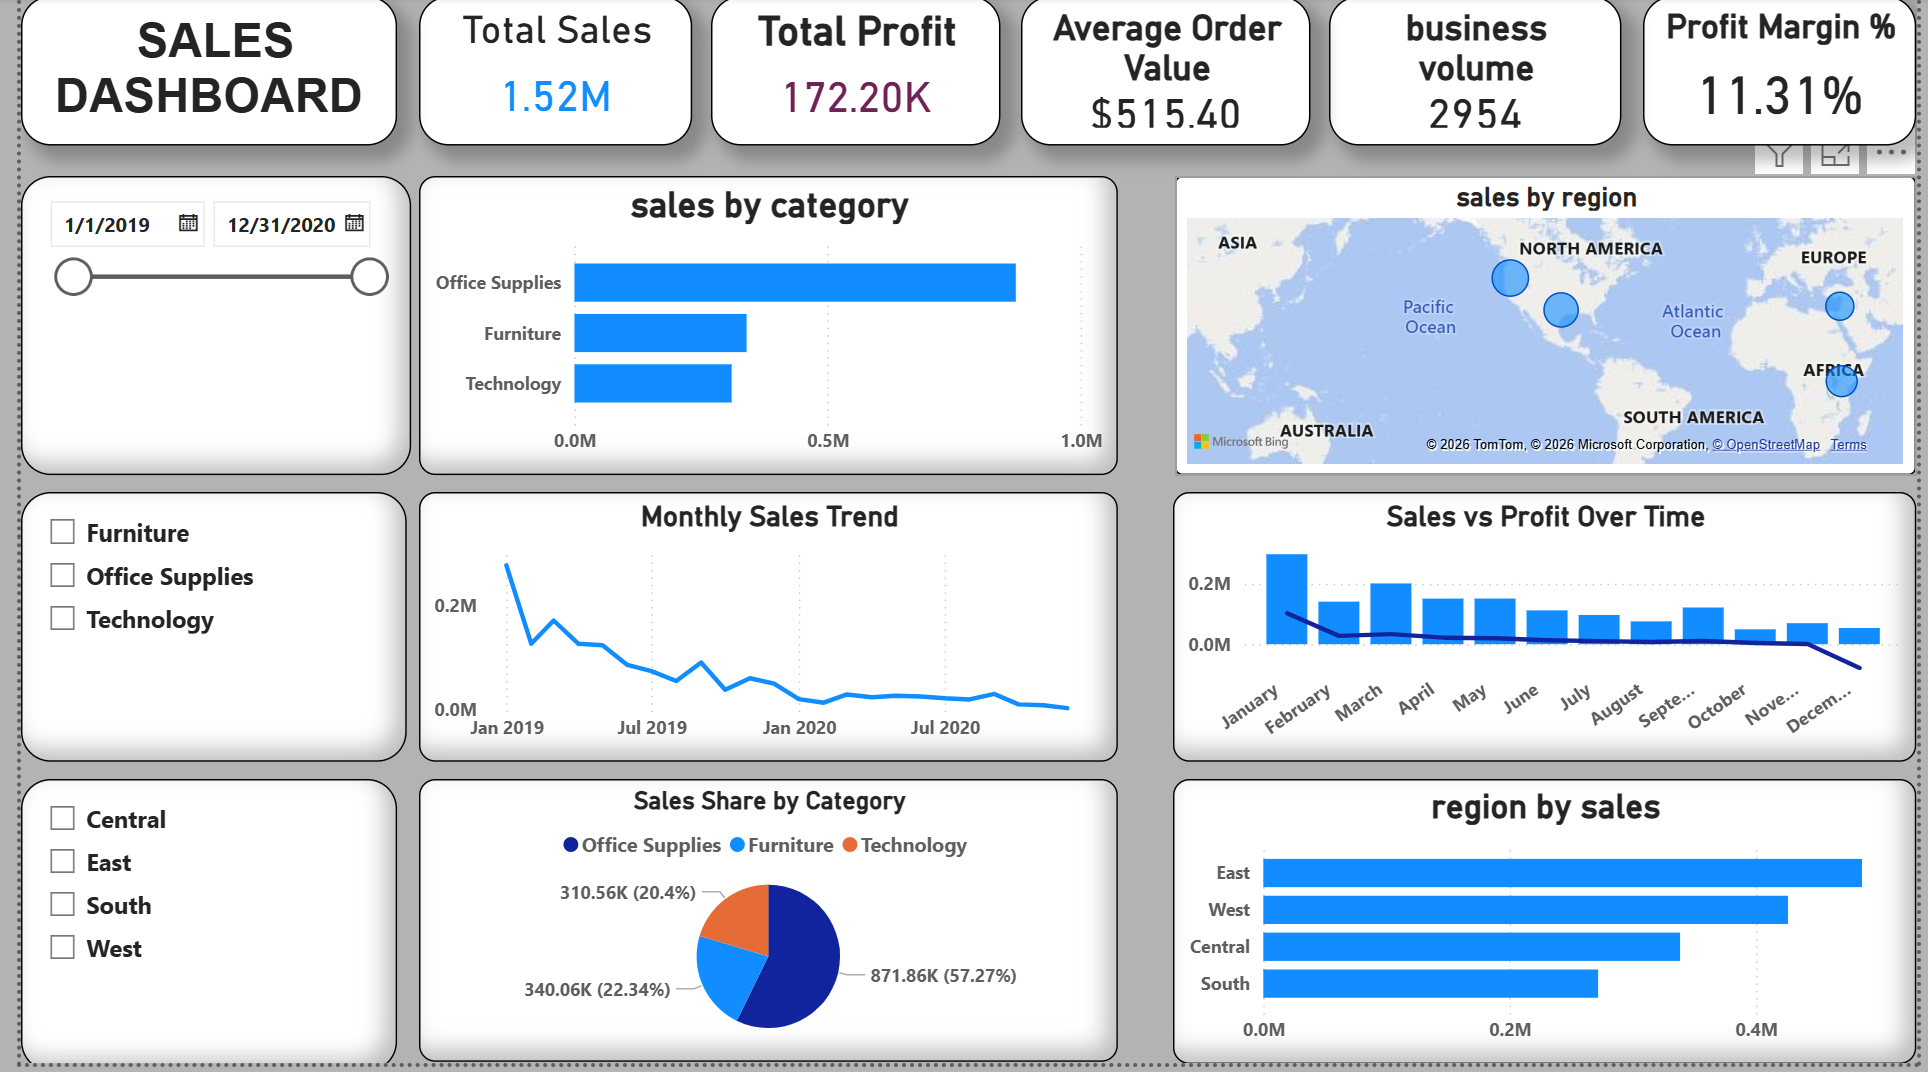

The dashboard page shown, as its layout file describes it:
{"tool":"powerbi","page":{"name":"Page 1","canvas":[1280,720],"ordinal":0},"visuals":[{"type":"card","title":"Total Sales","fields":{"Values":["superstore_sales_powerbi.Total Sales"]},"box":[268.3,0,184.7,101],"z":0},{"type":"card","title":"Total Profit","fields":{"Values":["superstore_sales_powerbi.Total Profit"]},"box":[465.6,0,195.7,101],"z":1000},{"type":"clusteredBarChart","title":"sales by category","fields":{"Category":["superstore_sales_powerbi.category"],"Y":["Sum(superstore_sales_powerbi.sales)"]},"box":[268.3,121.5,471.9,202],"z":2000},{"type":"barChart","title":"region by sales","fields":{"Category":["superstore_sales_powerbi.region"],"Y":["Sum(superstore_sales_powerbi.sales)"]},"box":[778.1,528.7,501.9,192.6],"z":3000},{"type":"lineChart","title":"Monthly Sales Trend","fields":{"Category":["superstore_sales_powerbi.order_date.Variation.Date Hierarchy.Year","superstore_sales_powerbi.order_date.Variation.Date Hierarchy.Month"],"Y":["Sum(superstore_sales_powerbi.sales)"]},"box":[268.3,334.6,471.9,181.5],"z":4000},{"type":"map","title":" sales by region","fields":{"Category":["superstore_sales_powerbi.region"],"Size":["Sum(superstore_sales_powerbi.sales)"]},"box":[779.7,121.5,500.3,202],"z":5000},{"type":"card","title":"Profit Margin %","fields":{"Values":["superstore_sales_powerbi.Profit Margin (%)"]},"box":[1095.3,0,184.7,101],"z":6000},{"type":"card","title":"business volume","fields":{"Values":["superstore_sales_powerbi.Total Orders"]},"box":[883.8,0,197.3,101],"z":7000},{"type":"card","title":"Average Order Value","fields":{"Values":["superstore_sales_powerbi.Average Order Value"]},"box":[675.5,0,195.7,101],"z":8000},{"type":"slicer","fields":{"Values":["superstore_sales_powerbi.region"]},"box":[0,528.7,254.1,197.3],"z":9000},{"type":"slicer","fields":{"Values":["superstore_sales_powerbi.category"]},"box":[0,334.6,260.4,181.5],"z":10000},{"type":"slicer","fields":{"Values":["superstore_sales_powerbi.order_date"]},"box":[0,121.5,263.6,202],"z":11000},{"type":"lineStackedColumnComboChart","title":"Sales vs Profit Over Time","fields":{"Y":["Sum(superstore_sales_powerbi.sales)"],"Y2":["superstore_sales_powerbi.Total Profit"],"Category":["superstore_sales_powerbi.order_date.Variation.Date Hierarchy.Month"]},"box":[778.1,334.6,501.9,181.5],"z":12000},{"type":"textbox","box":[0,0,254.1,101],"z":13000},{"type":"pieChart","title":"Sales Share by Category","fields":{"Category":["superstore_sales_powerbi.category"],"Y":["superstore_sales_powerbi.Total Sales"]},"box":[268.3,528.7,471.9,191],"z":14000}]}

Visuals, with their boxes in screenshot pixels (x1, y1, x2, y2), scaled from the page's 1280x720 canvas onto the 1928x1072 screenshot:
"Total Sales" card: bbox=(404, 0, 682, 150)
"Total Profit" card: bbox=(701, 0, 996, 150)
"sales by category" clusteredBarChart: bbox=(404, 181, 1115, 482)
"region by sales" barChart: bbox=(1172, 787, 1927, 1071)
"Monthly Sales Trend" lineChart: bbox=(404, 498, 1115, 768)
" sales by region" map: bbox=(1174, 181, 1927, 482)
"Profit Margin %" card: bbox=(1650, 0, 1927, 150)
"business volume" card: bbox=(1331, 0, 1628, 150)
"Average Order Value" card: bbox=(1017, 0, 1312, 150)
slicer - superstore_sales_powerbi.region: bbox=(0, 787, 383, 1071)
slicer - superstore_sales_powerbi.category: bbox=(0, 498, 392, 768)
slicer - superstore_sales_powerbi.order_date: bbox=(0, 181, 397, 482)
"Sales vs Profit Over Time" lineStackedColumnComboChart: bbox=(1172, 498, 1927, 768)
textbox: bbox=(0, 0, 383, 150)
"Sales Share by Category" pieChart: bbox=(404, 787, 1115, 1071)
